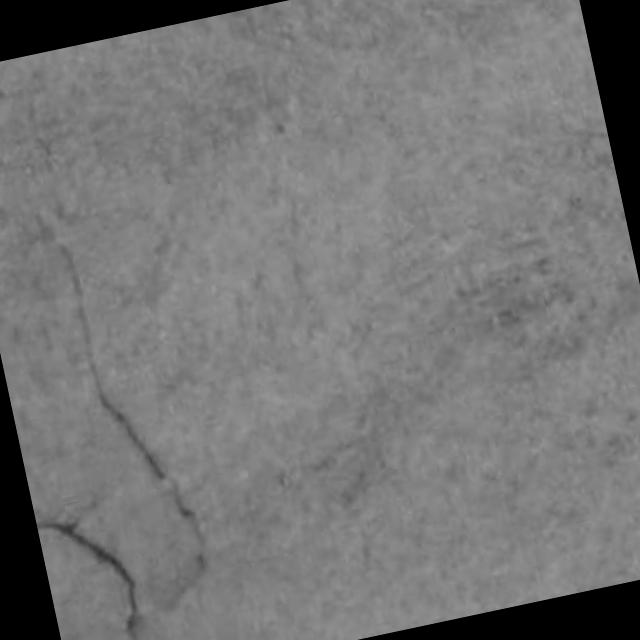crack: (59, 245, 206, 568), (37, 521, 139, 632)
